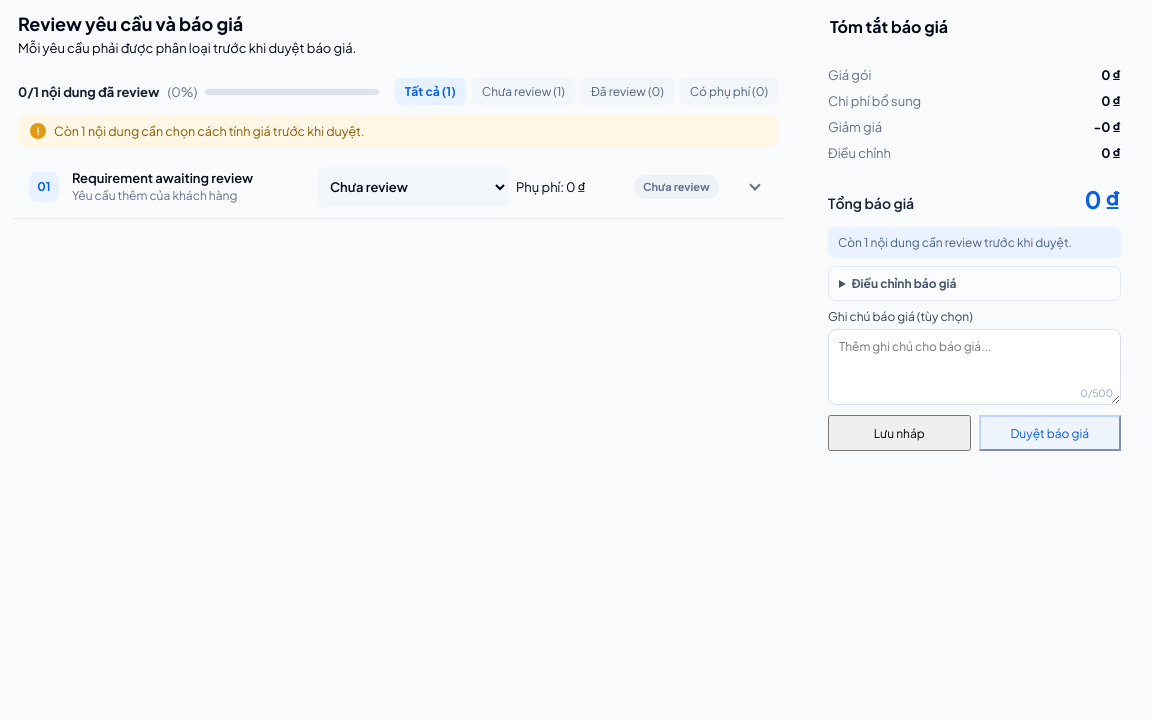
Scenario: ManagerPricingPanel › keeps draft saving available but blocks approval while a custom item is pending
Expected: the text "Requirement awaiting review" is shown, [72,170,253,186]
Expected: the text "0/1 nội dung đã review" is shown, [18,84,159,100]
Click the button "Lưu nháp" at (899, 433), box [828,415,970,451]
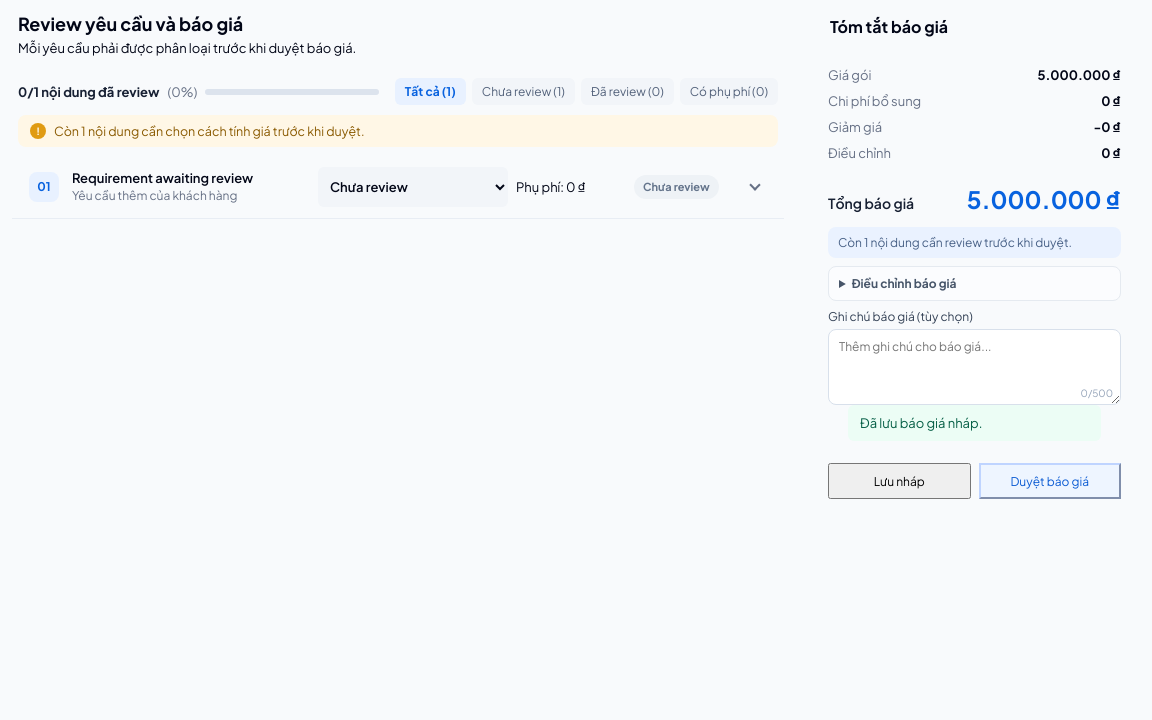
Result: the text "Đã lưu báo giá nháp." is shown at [848,405,1101,441]
